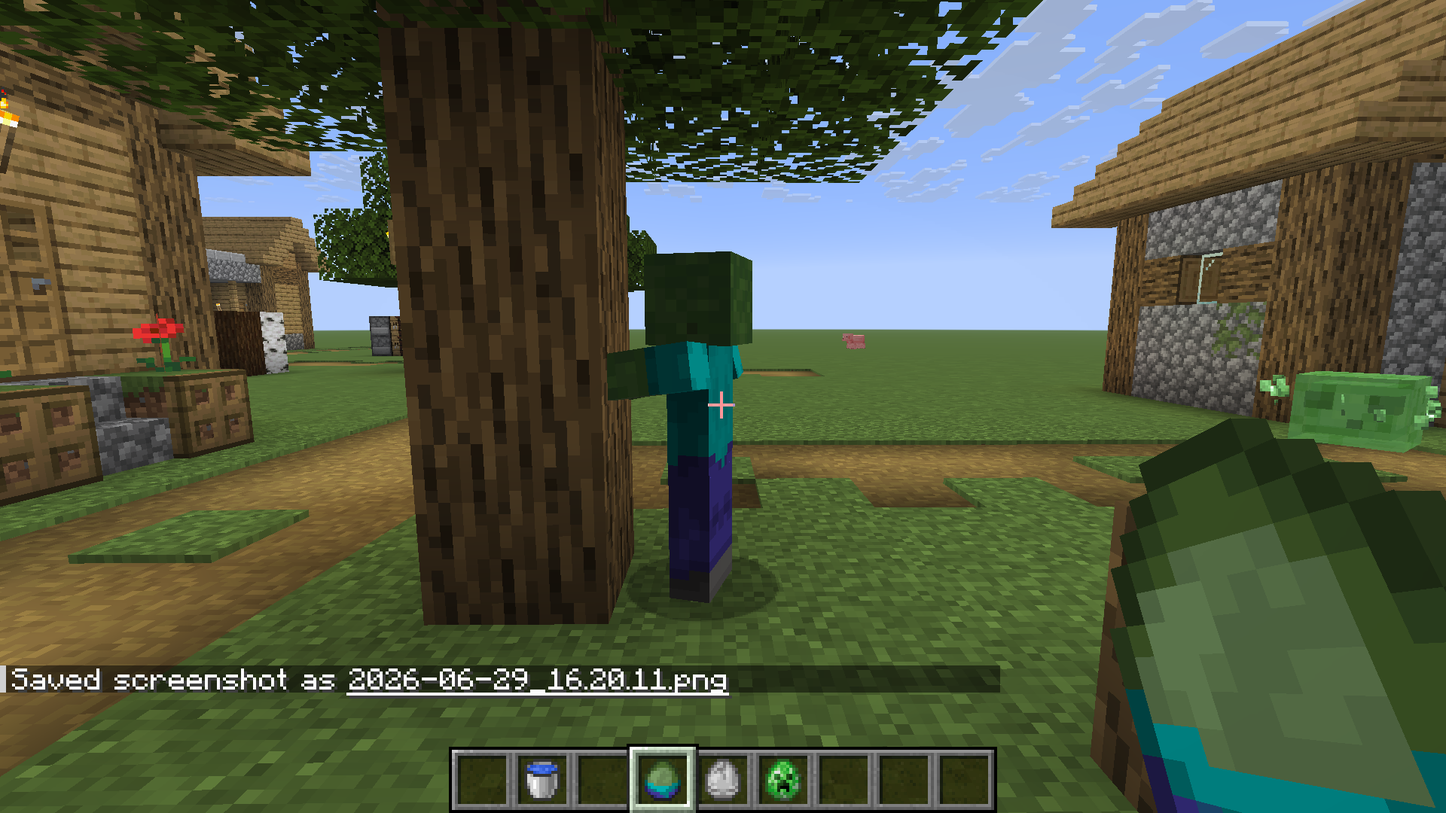zombie: (598, 228, 771, 609)
